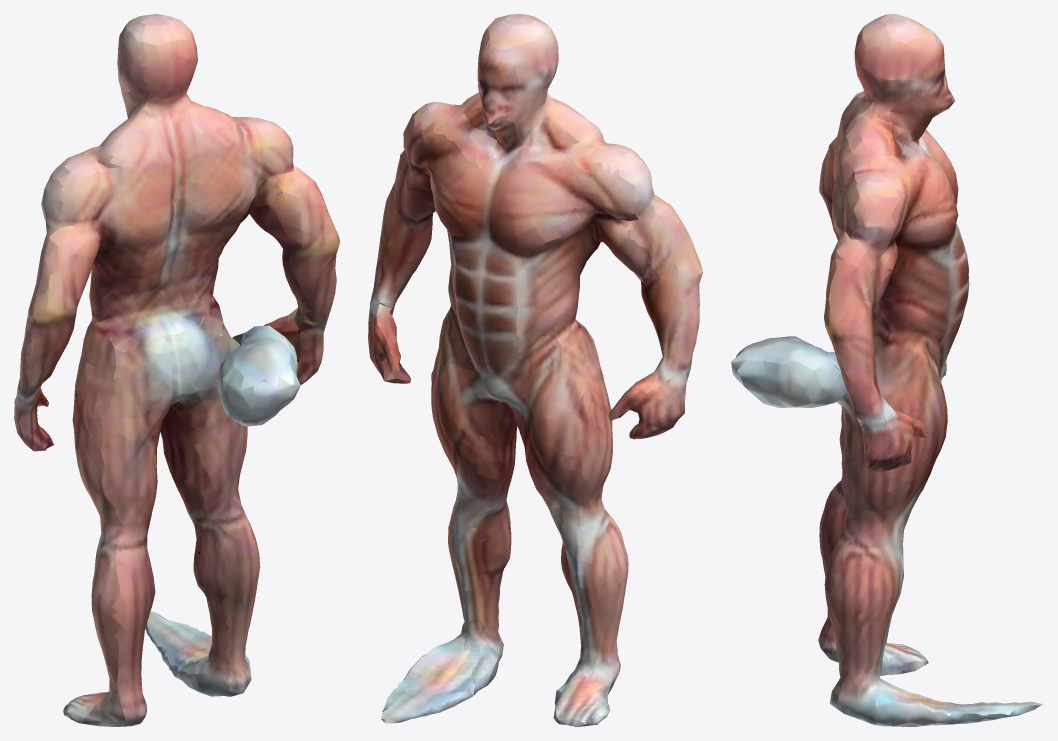
3 views of the same model, side by side, from view 1: azimuth 30°, elevation 25°; view 2: azimuth 150°, elevation 25°; view 3: azimuth 270°, elevation 25° (orthographic).
Visible parts, largest first — view 1: world; view 2: world; view 3: world.
Boxes of the visible parts, x1,y1,x2,y2 form: world: [14, 14, 339, 726]; world: [368, 14, 702, 726]; world: [731, 14, 1042, 726].
Size of the model in its own units: 0.4814 by 1 by 0.4182.
Materials: 1 (1 with a texture image).
